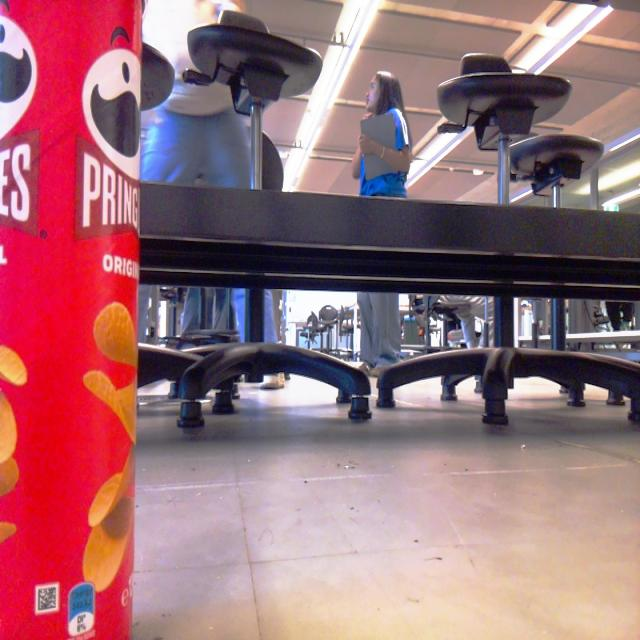redpringles: (0, 3, 173, 640)
